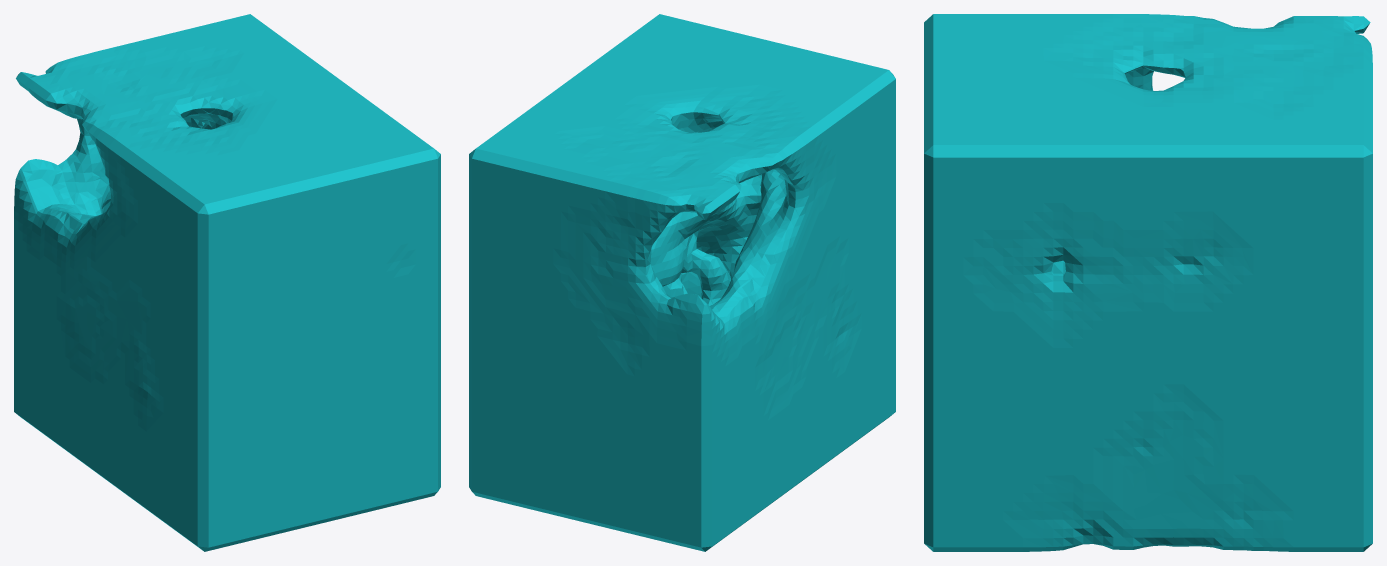
The picture shows the model from 3 angles, left to right: view 1: azimuth 30°, elevation 25°; view 2: azimuth 150°, elevation 25°; view 3: azimuth 270°, elevation 25°; orthographic projection. The views are drawn at different scales.
Parts seen in each view (by area): view 1: Liquid_Domain; view 2: Liquid_Domain; view 3: Liquid_Domain.
Boxes of the visible parts, bbox=[...] form: Liquid_Domain: bbox=[14, 14, 440, 551]; Liquid_Domain: bbox=[469, 14, 895, 551]; Liquid_Domain: bbox=[924, 14, 1372, 551].
Size of the model in its own units: 79.09 by 108 by 108.
